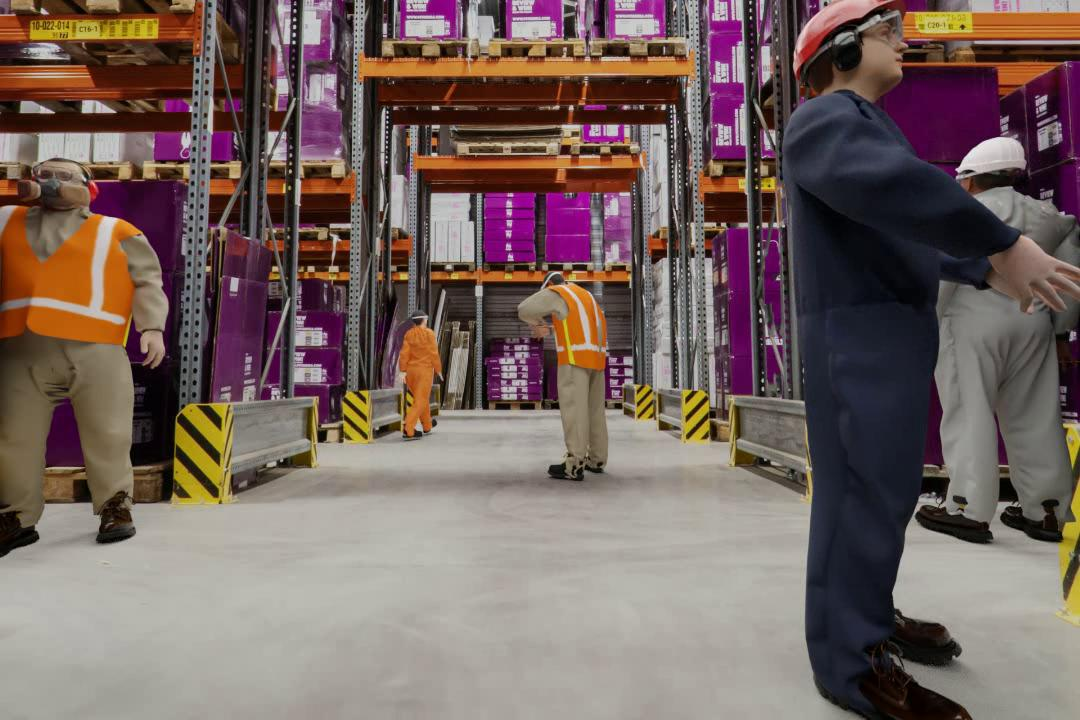Helmet: (781, 0, 909, 71), (966, 134, 1029, 174)
Jacket: (8, 199, 121, 344), (550, 283, 608, 361)
Shoes: (810, 672, 968, 720), (899, 590, 967, 666), (916, 497, 993, 543), (999, 498, 1064, 544), (91, 491, 135, 547), (0, 509, 40, 566), (548, 461, 584, 482), (423, 418, 439, 434), (585, 459, 604, 472), (403, 430, 423, 441)
